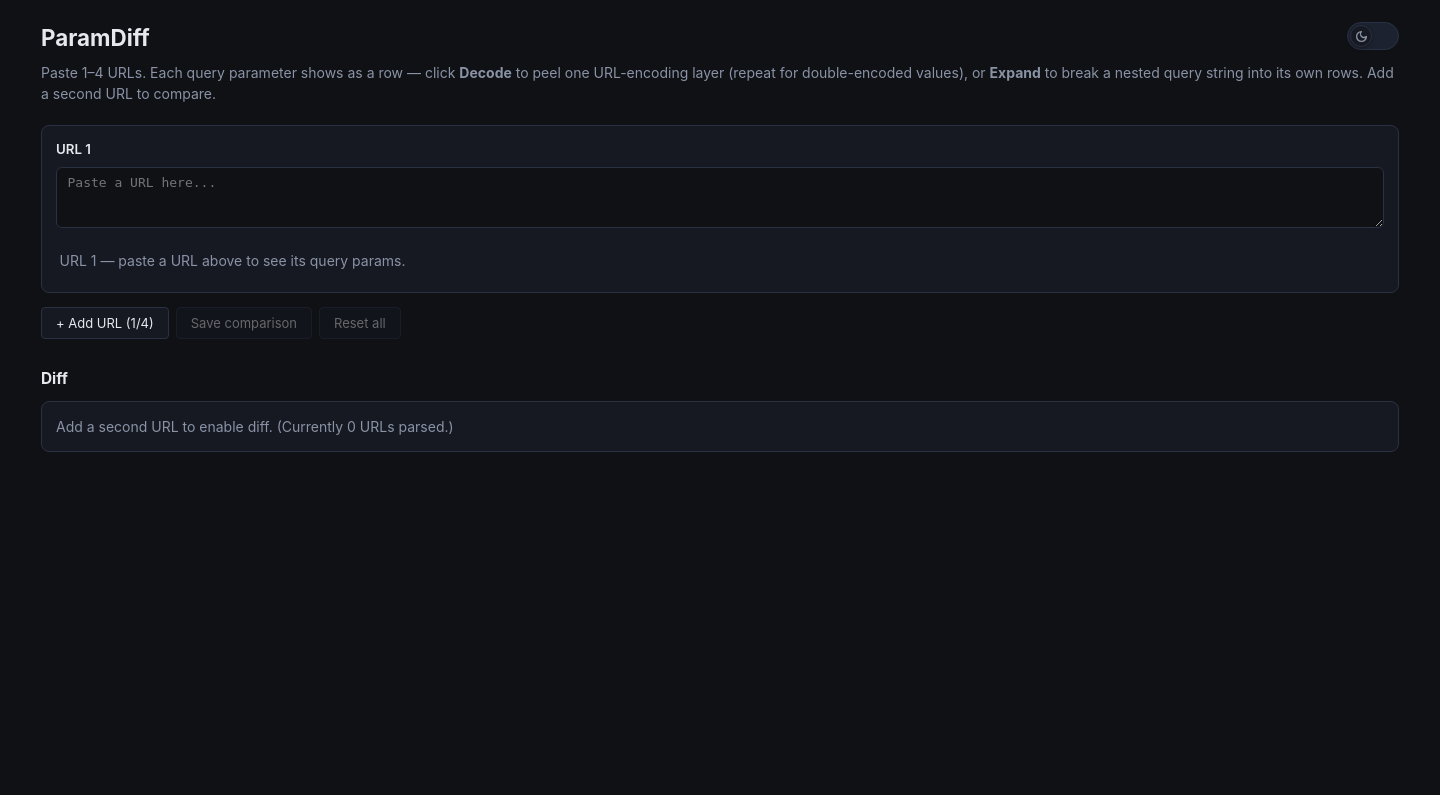
Test case: App — URL slot management › adds a slot up to MAX_URLS=4 and hides the Add button at the cap
This screenshot has width=1440, height=795.
Click the button "+ Add URL (1/4)" at [105, 323], box [41, 307, 169, 339]
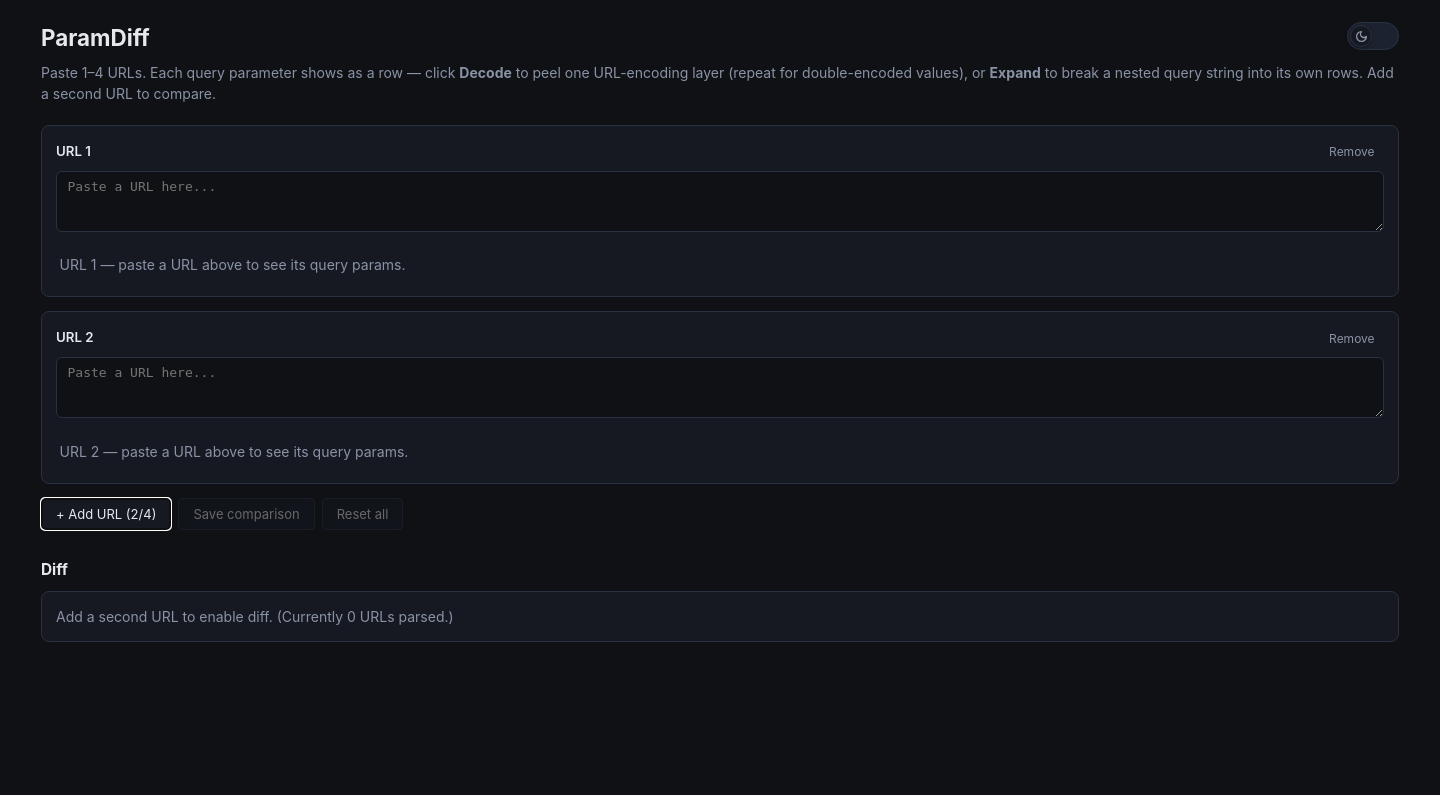
Click the button "+ Add URL (2/4)" at [106, 514], box [41, 498, 171, 530]
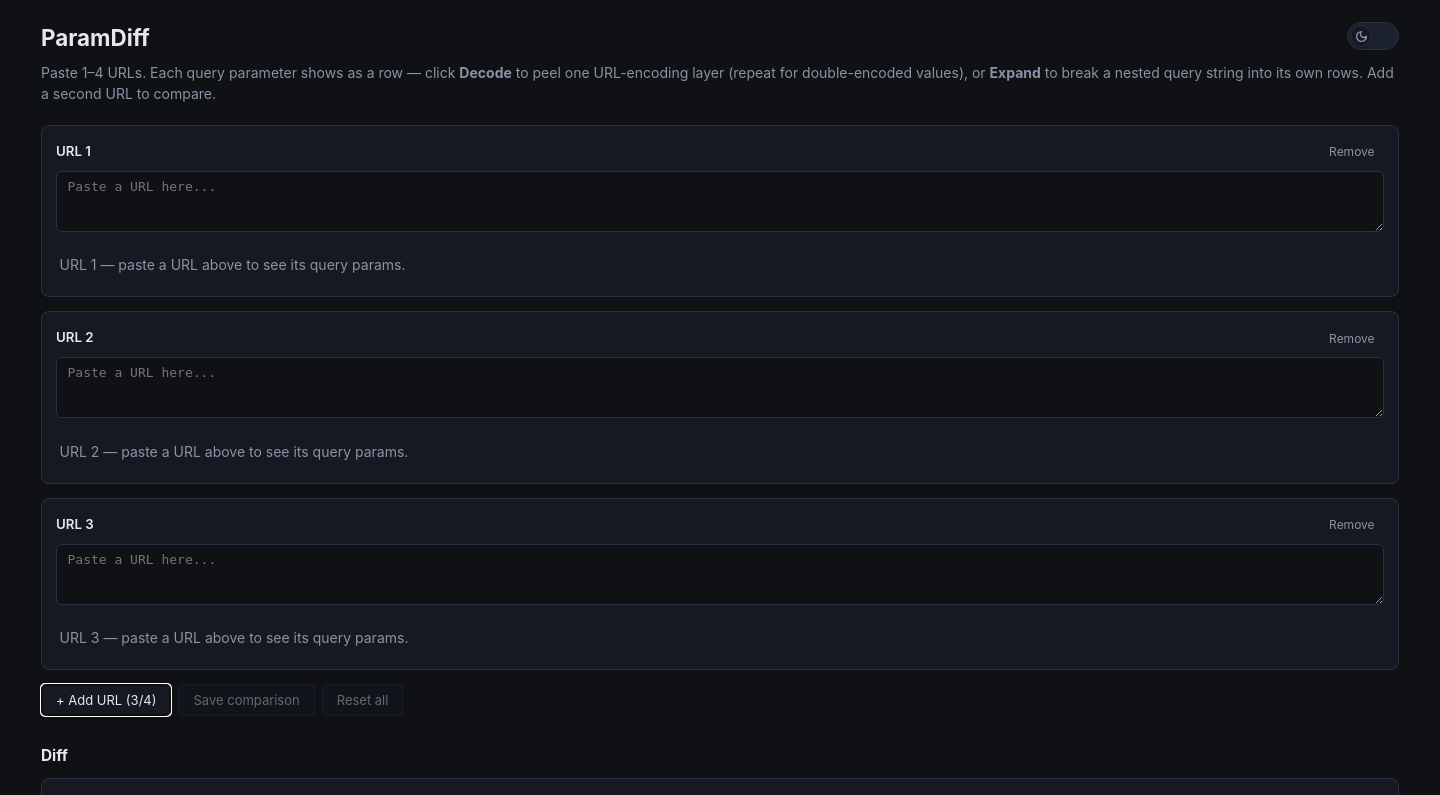
Click the button "+ Add URL (3/4)" at [106, 700], box [41, 684, 172, 716]
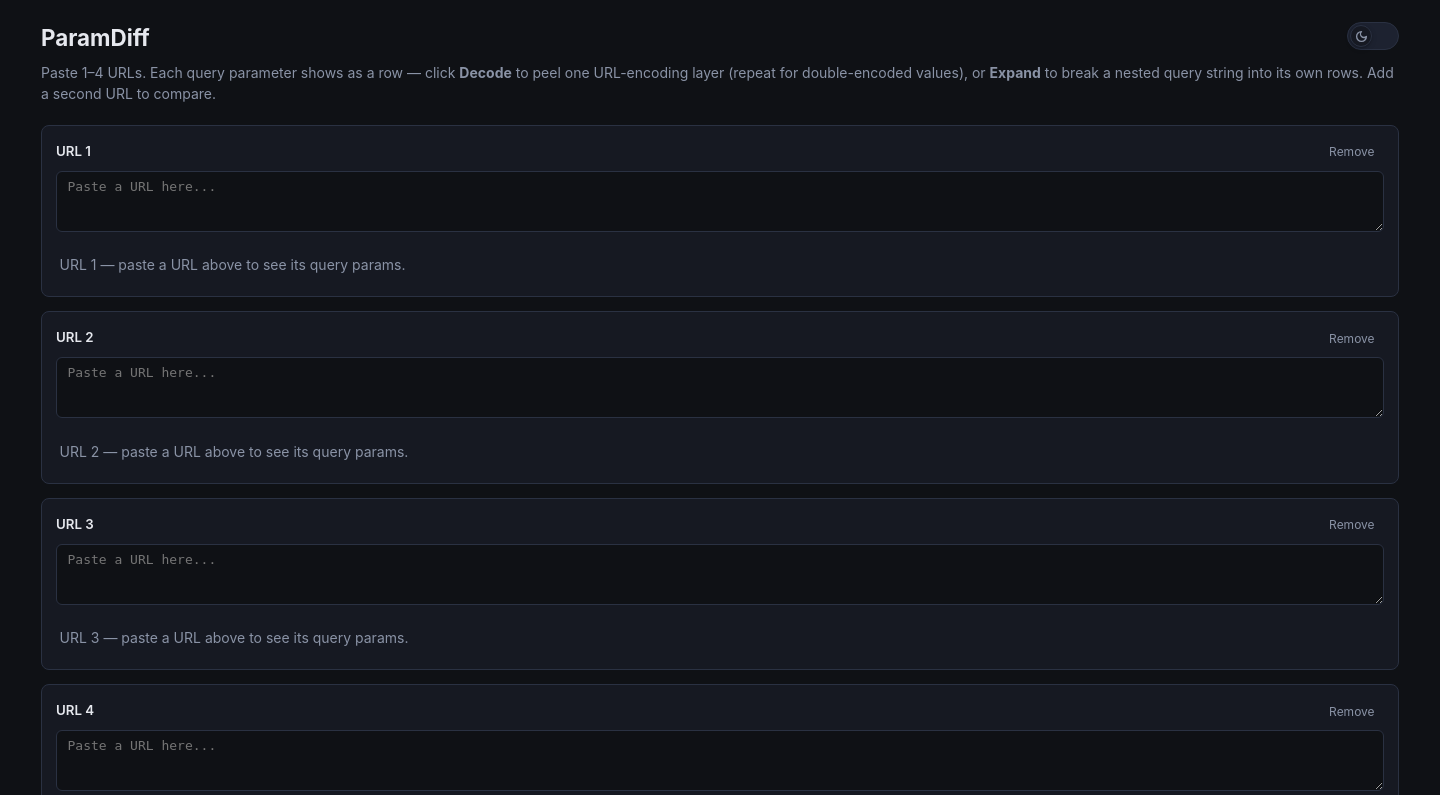
Result: the text box labelled "URL 4" is shown at [56, 730, 1384, 791]
Result: the button "Add URL" is gone
